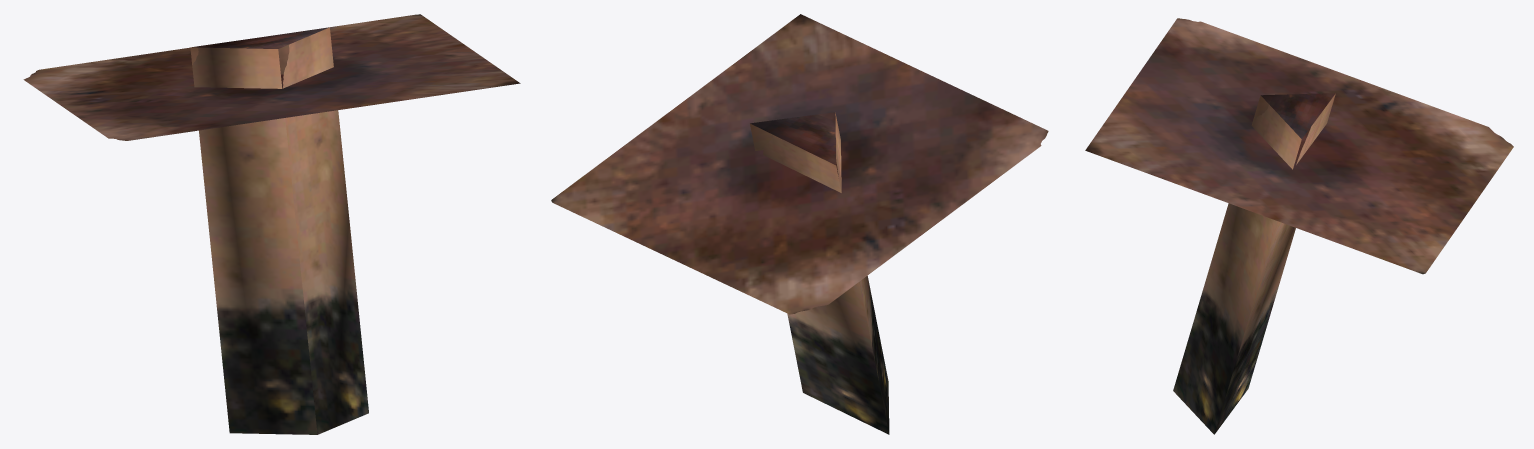
File: fngi_forestmushroom_lg_l1.fbx
The picture shows the model from 3 angles, left to right: view 1: azimuth 30°, elevation 25°; view 2: azimuth 150°, elevation 25°; view 3: azimuth 270°, elevation 25°; orthographic projection. The views are drawn at different scales.
Parts seen in each view (by area): view 1: mesh_node; view 2: mesh_node; view 3: mesh_node.
Boxes of the visible parts, x1,y1,x2,y2 form: mesh_node: [23, 14, 520, 434]; mesh_node: [551, 14, 1048, 434]; mesh_node: [1085, 18, 1513, 434].
Bounding box in the file's own units: 0.2076 × 0.1647 × 0.2018.
Materials: 1 (1 with a texture image).
